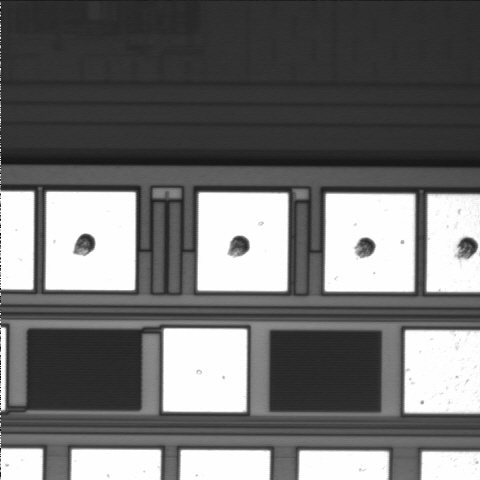pad: (46, 192, 136, 290), (198, 193, 288, 291), (325, 194, 415, 292), (163, 329, 247, 412)
